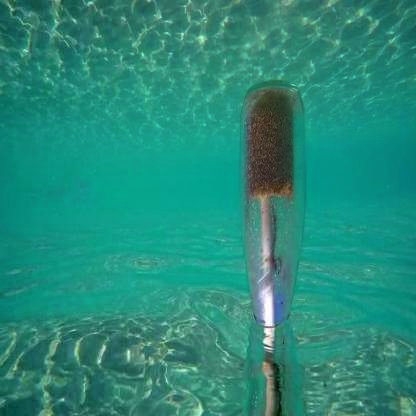gbottle: (238, 84, 303, 323)
